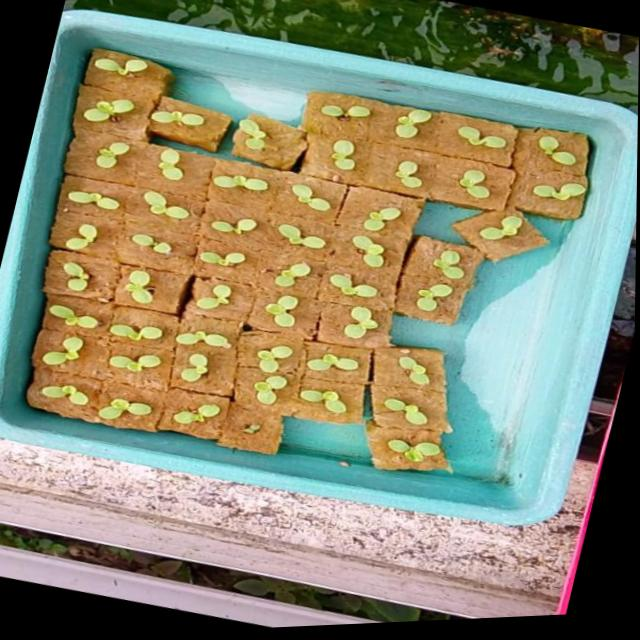Baby: (326, 267, 452, 308), (407, 236, 482, 287), (231, 115, 303, 168), (274, 172, 346, 224), (135, 144, 214, 190), (75, 83, 159, 126), (98, 382, 164, 431), (207, 159, 279, 203), (300, 132, 355, 183), (83, 48, 147, 90), (65, 138, 129, 178), (440, 122, 507, 158), (49, 217, 122, 250), (148, 97, 204, 140), (336, 199, 411, 231), (370, 107, 431, 146), (394, 154, 460, 190), (233, 366, 287, 404), (236, 336, 293, 372), (59, 335, 109, 376), (277, 223, 341, 255), (190, 277, 246, 312), (516, 172, 573, 206), (386, 438, 450, 468), (108, 347, 161, 382), (529, 129, 576, 165), (134, 190, 190, 220), (160, 403, 220, 430), (173, 345, 213, 381), (272, 260, 324, 287), (197, 240, 245, 266), (55, 184, 105, 207), (300, 390, 345, 415), (306, 350, 359, 371), (42, 384, 88, 407), (124, 269, 153, 303), (63, 261, 91, 296), (267, 295, 297, 326), (210, 217, 256, 234)
